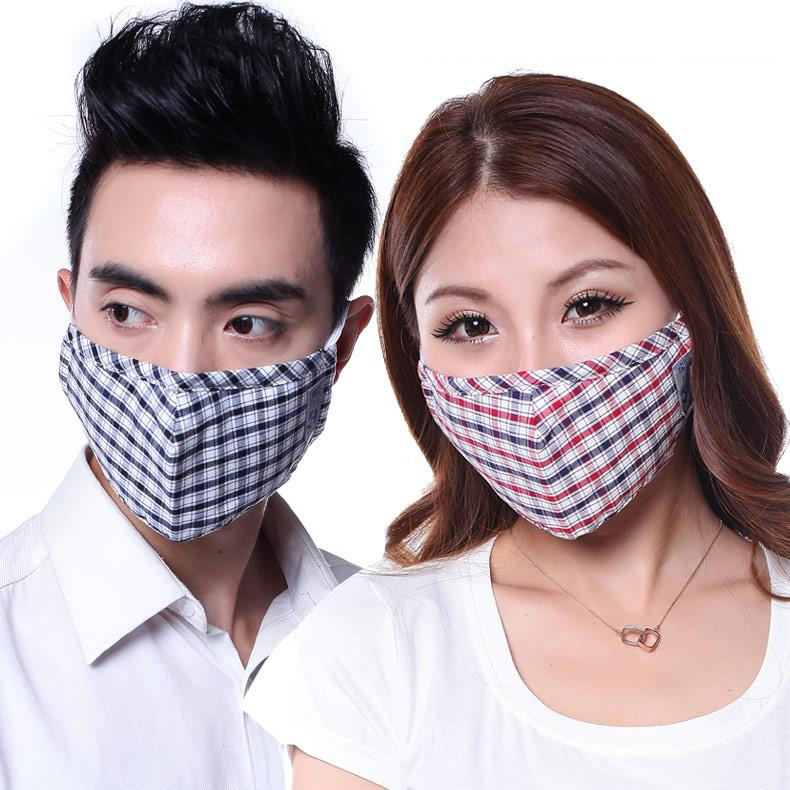OK: (68, 254, 350, 536), (407, 263, 667, 523)
